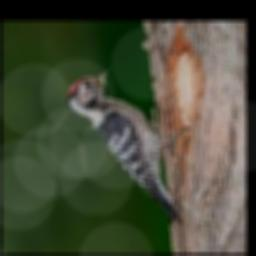Woodpecker: (66, 67, 190, 222)
